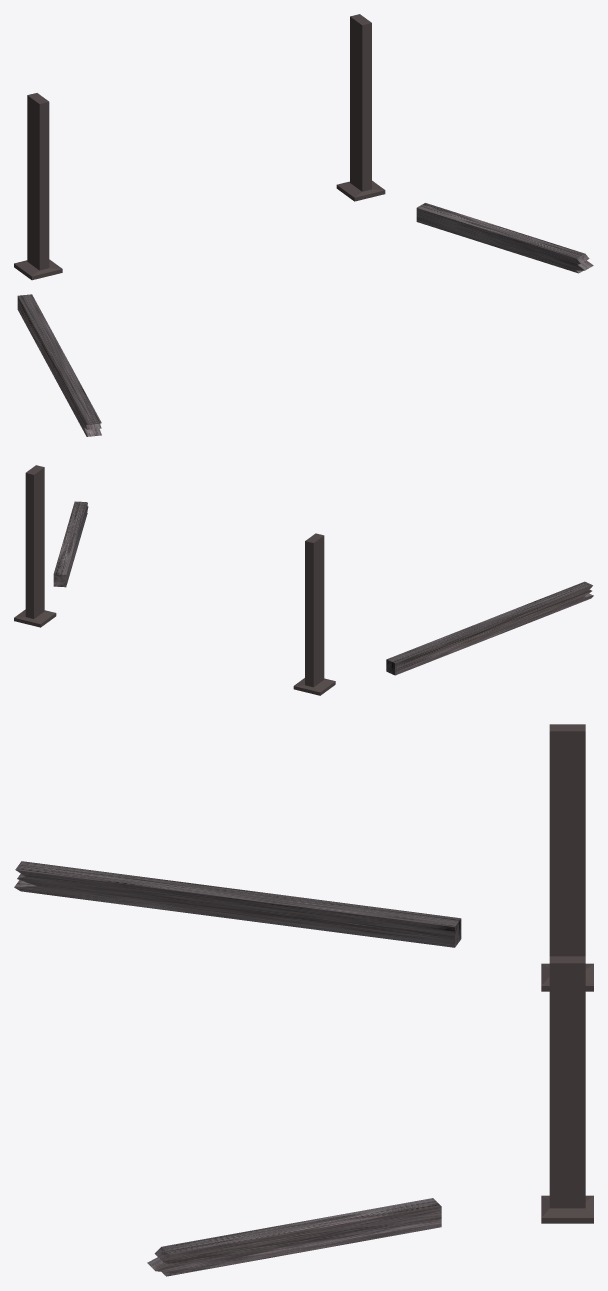
File: BrokenBarrier.fbx
The picture shows the model from 3 angles, top to bottom: view 1: azimuth 30°, elevation 25°; view 2: azimuth 150°, elevation 25°; view 3: azimuth 270°, elevation 25°; orthographic projection. The views are drawn at different scales.
Parts seen in each view (by area): view 1: broken_barrier; view 2: broken_barrier; view 3: broken_barrier.
Part boxes in pixels (bbox=[...]): broken_barrier: bbox=[14, 14, 593, 436]; broken_barrier: bbox=[14, 465, 593, 695]; broken_barrier: bbox=[14, 724, 593, 1276].
Bounding box in the file's own units: 9.93 × 2.95 × 6.14.
1 material, 1 textured.
